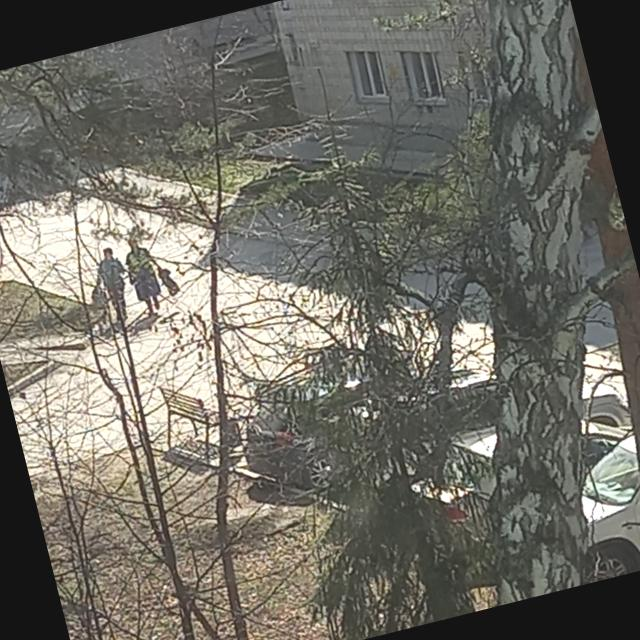person: (120, 235, 169, 317), (89, 244, 137, 326)
